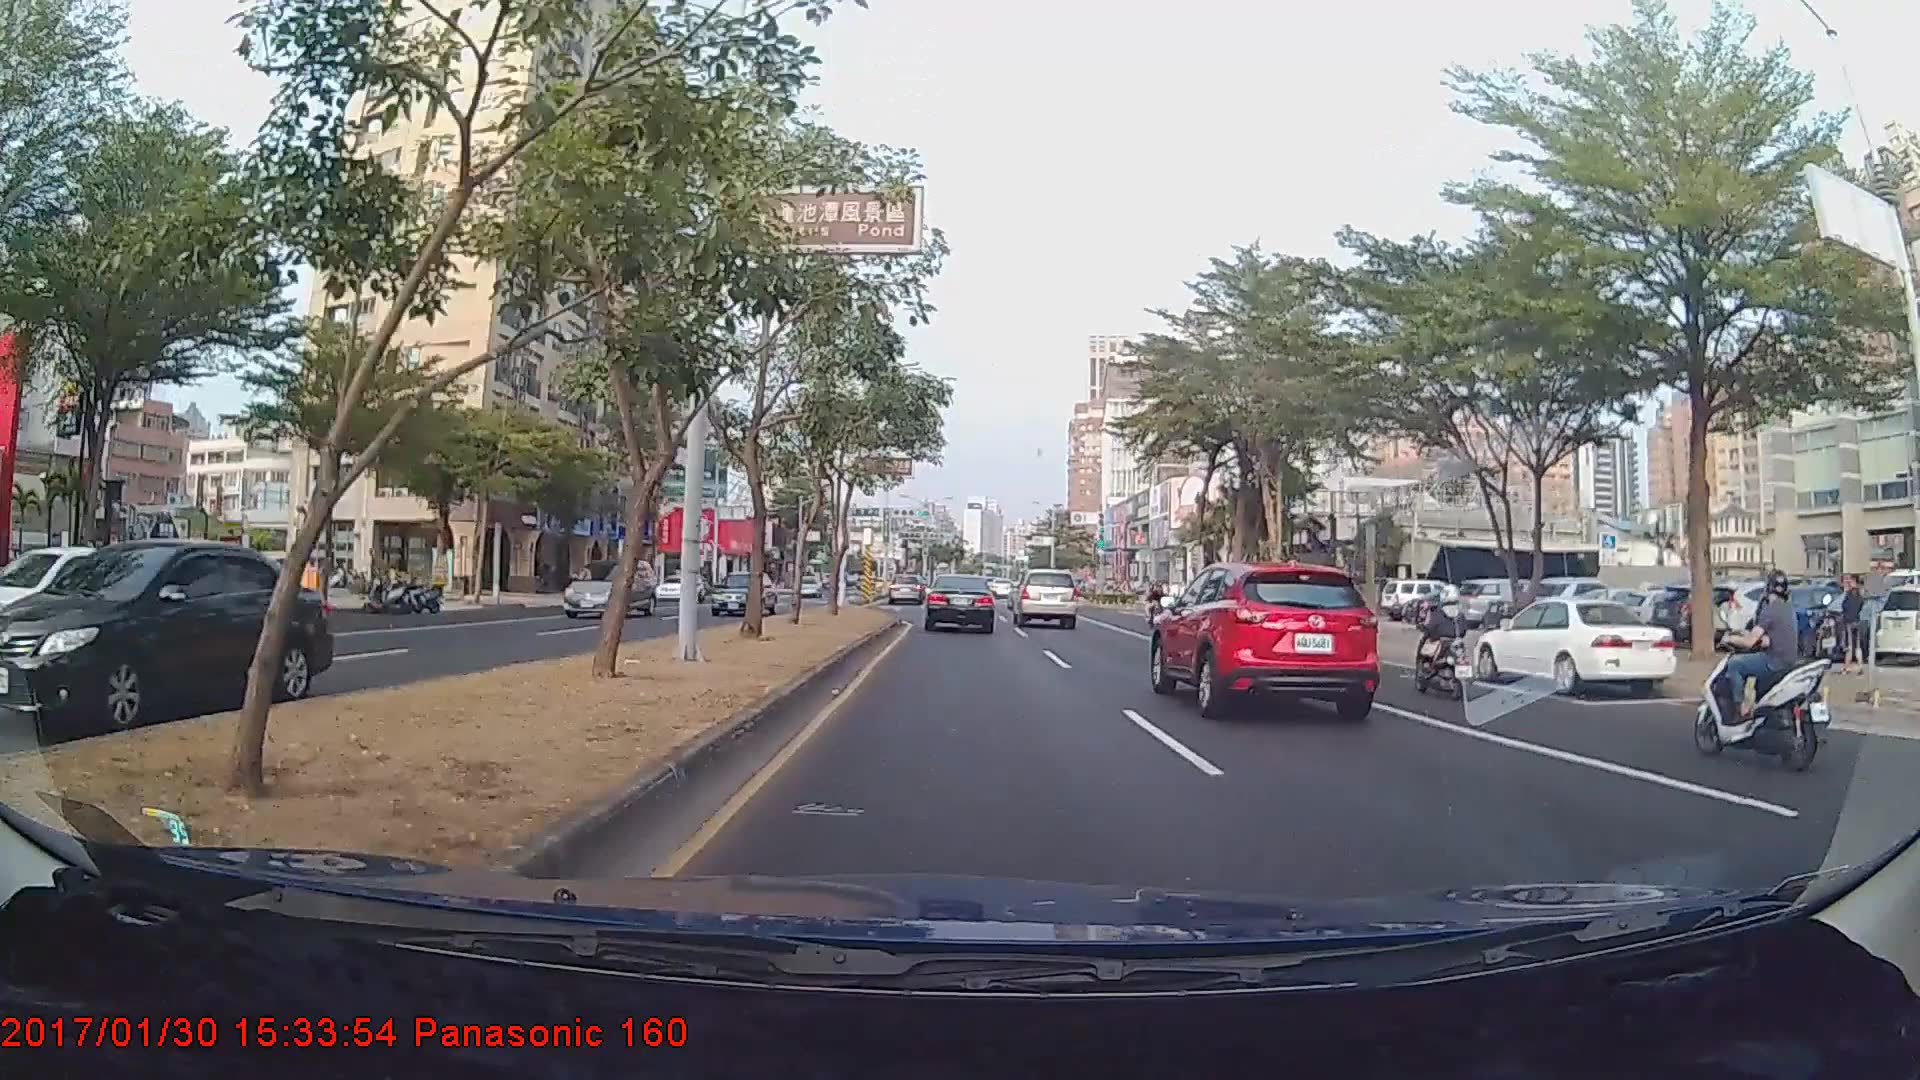pedestrian: (1839, 576, 1868, 673)
rider: (1694, 555, 1836, 776), (1401, 583, 1482, 705)
vehicle: (0, 539, 334, 732), (1148, 561, 1380, 725), (1472, 597, 1682, 697), (560, 556, 658, 619), (924, 572, 997, 634), (1011, 568, 1078, 628), (708, 568, 775, 617), (654, 574, 704, 601), (887, 573, 928, 606), (792, 576, 822, 599)
